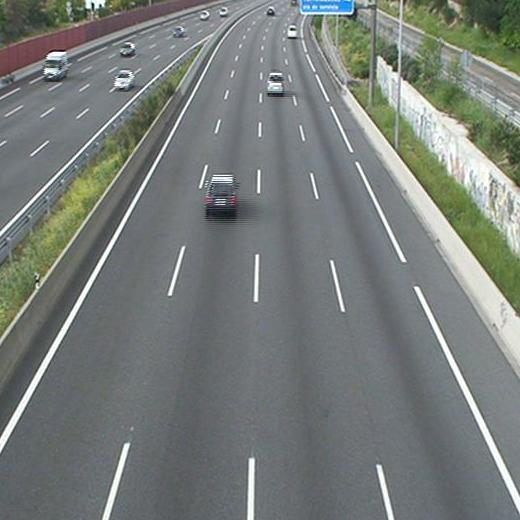car: (205, 176, 237, 209), (266, 72, 284, 92), (287, 26, 298, 37), (267, 7, 275, 15)
